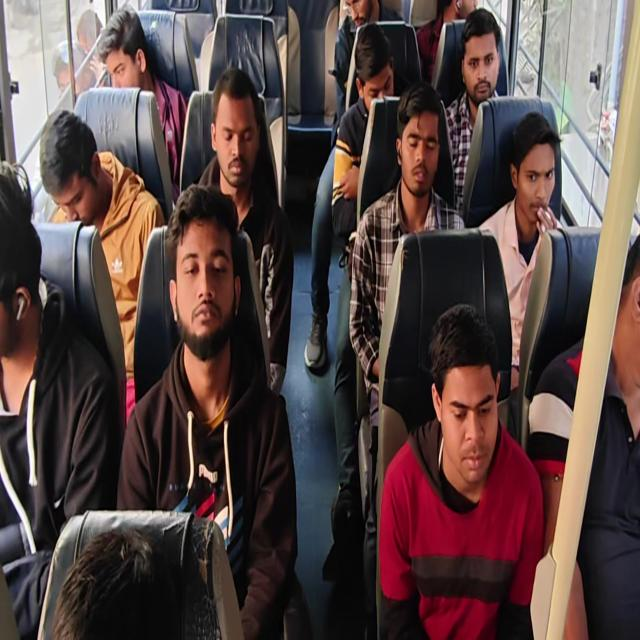person: (37, 529, 230, 640), (158, 176, 241, 374), (423, 290, 500, 479), (33, 107, 112, 220), (0, 153, 37, 372), (200, 64, 261, 186), (507, 111, 561, 242), (608, 238, 640, 404), (100, 2, 150, 102), (400, 78, 437, 201), (348, 22, 396, 114), (461, 8, 499, 104), (440, 0, 483, 24), (341, 0, 373, 24)
